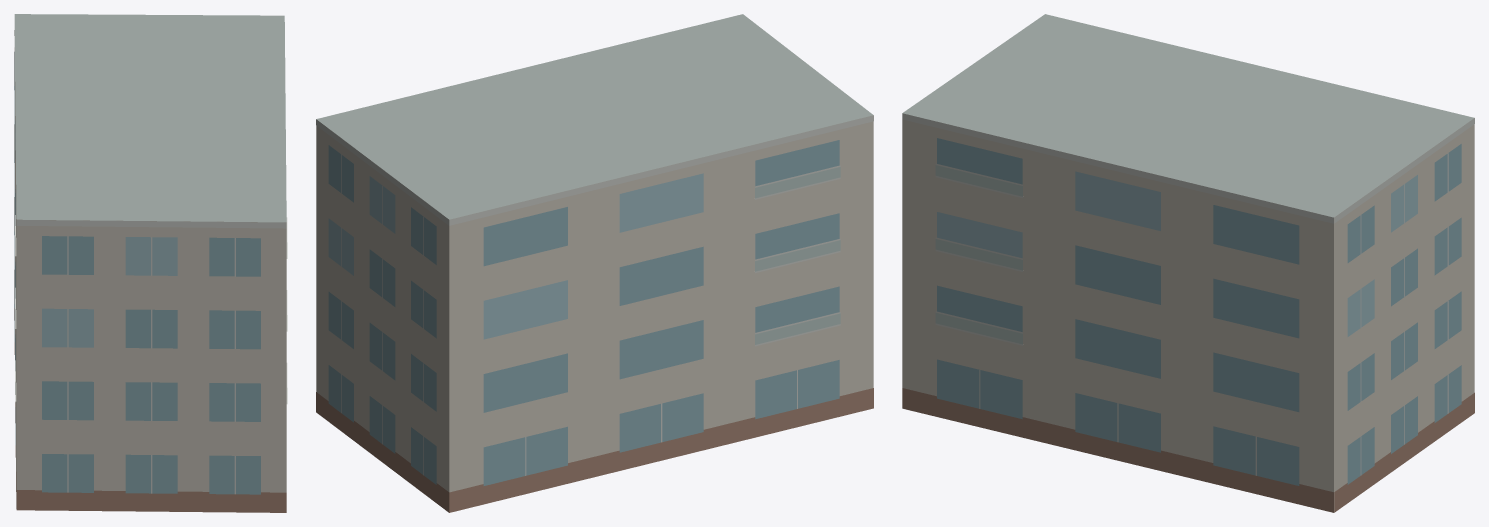
Rendered from survey-upis-32918735.glb.
3 renders of one model, left to right at view 1: azimuth 30°, elevation 25°; view 2: azimuth 150°, elevation 25°; view 3: azimuth 270°, elevation 25°, orthographic.
Parts seen in each view (by area): view 1: survey-upis-32918735.tmp; view 2: survey-upis-32918735.tmp; view 3: survey-upis-32918735.tmp.
Part boxes in pixels (box(x1,y1,x2,y2)): survey-upis-32918735.tmp: box(14, 14, 287, 512); survey-upis-32918735.tmp: box(316, 14, 873, 512); survey-upis-32918735.tmp: box(902, 14, 1474, 512).
Size of the model in its own units: 17.16 by 11.6 by 20.39.
